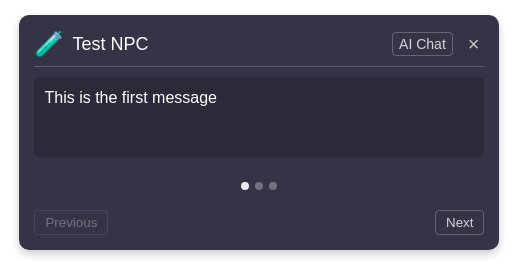
it: ConversationModal › should navigate to next message when Next button is clicked
Expected: the text "This is the first message" is shown, [34,77,484,157]
Note: Find and click the Next button
What coordinates should you click on to do the following:
click the button "Next"
I would click on:
 (460, 223)
Its box is [435,210,484,235].
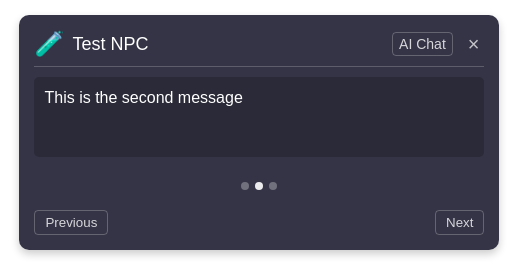
Expected: the text "This is the second message" is shown, [34,77,484,157]
